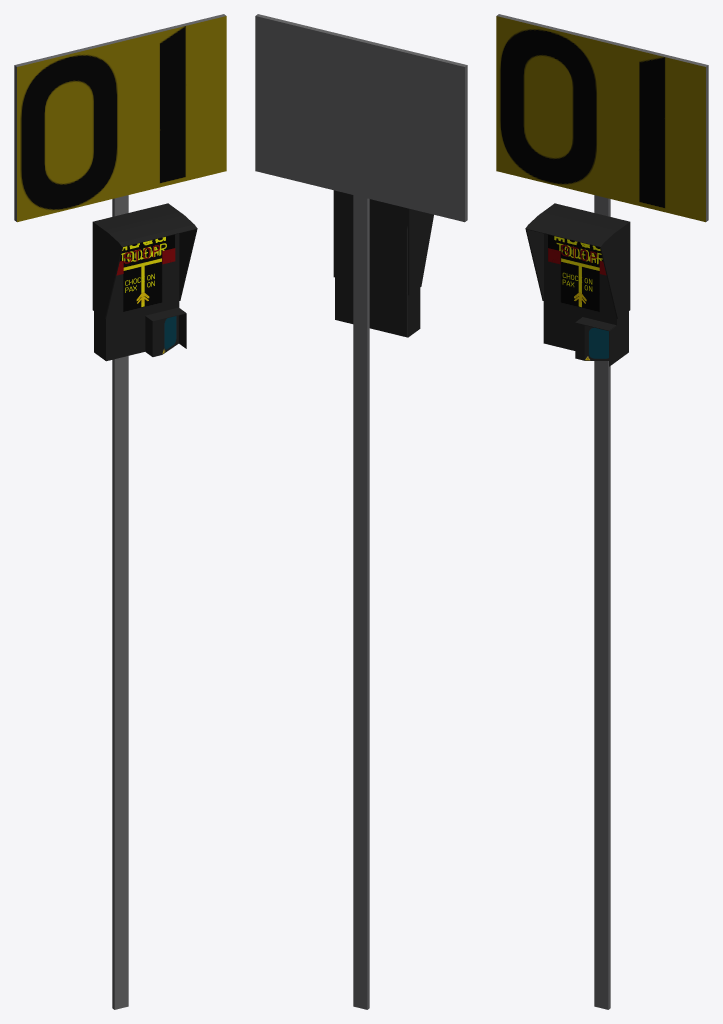
The model's file is VDGS.fbx.
3 renders of one model, left to right at view 1: azimuth 30°, elevation 25°; view 2: azimuth 150°, elevation 25°; view 3: azimuth 330°, elevation 25°, orthographic.
Visible parts, largest first — view 1: Cube.001, Cube.002, Cube; view 2: Cube.001, Cube, Cube.002; view 3: Cube.001, Cube.002, Cube.
Boxes of the visible parts, x1=… form: Cube.001: x1=14, y1=14, x2=226, y2=222; Cube.002: x1=92, y1=203, x2=197, y2=361; Cube: x1=112, y1=356, x2=128, y2=1009; Cube.001: x1=255, y1=14, x2=467, y2=244; Cube: x1=353, y1=241, x2=369, y2=1009; Cube.002: x1=333, y1=190, x2=433, y2=337; Cube.001: x1=496, y1=14, x2=708, y2=222; Cube.002: x1=525, y1=203, x2=630, y2=366; Cube: x1=594, y1=361, x2=610, y2=1009.
Size of the model in its own units: 258 by 1136 by 86.77.
Materials: 1 (1 with a texture image).
